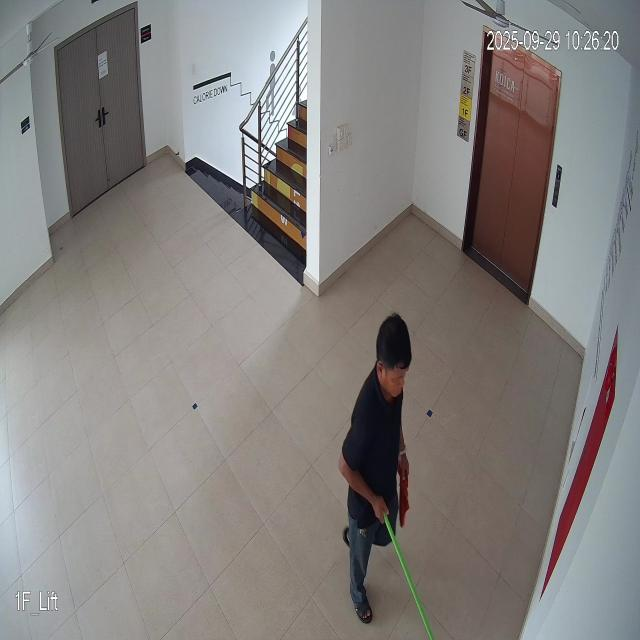face: (373, 309, 413, 410)
